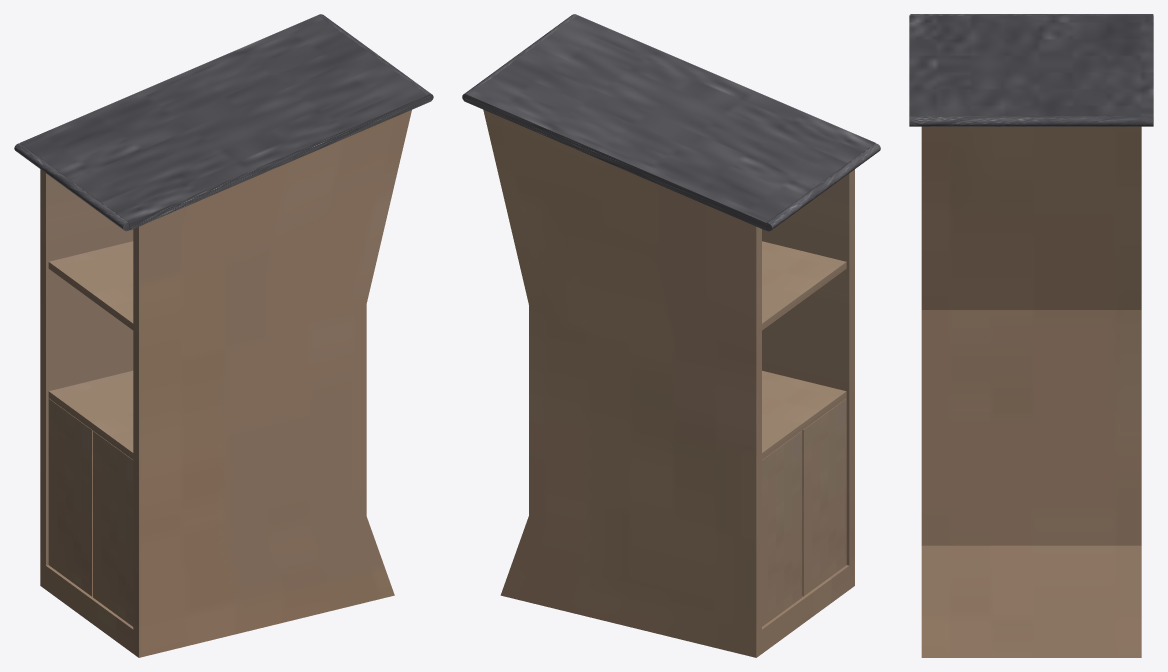
Rendered from podium.obj.
3 views of the same model, side by side, from view 1: azimuth 30°, elevation 25°; view 2: azimuth 150°, elevation 25°; view 3: azimuth 270°, elevation 25° (orthographic). The views are drawn at different scales.
Visible parts, largest first — view 1: Cube, Cube.005, Cube.004, Cube.003, Cube.001, Cube.002, Cylinder.001; view 2: Cube, Cube.005, Cube.003, Cube.004, Cube.001, Cube.002, Cylinder.001; view 3: Cube, Cube.005, Cylinder, Cylinder.001.
Part boxes in pixels (x1=…): Cube: x1=40, y1=110, x2=411, y2=657; Cube.005: x1=20, y1=14, x2=431, y2=230; Cube.004: x1=48, y1=398, x2=92, y2=596; Cube.003: x1=93, y1=431, x2=133, y2=626; Cube.001: x1=48, y1=241, x2=133, y2=330; Cube.002: x1=48, y1=370, x2=133, y2=459; Cylinder.001: x1=14, y1=143, x2=129, y2=231; Cube: x1=483, y1=109, x2=854, y2=657; Cube.005: x1=464, y1=14, x2=875, y2=229; Cube.003: x1=802, y1=398, x2=846, y2=596; Cube.004: x1=762, y1=431, x2=802, y2=626; Cube.001: x1=762, y1=241, x2=846, y2=330; Cube.002: x1=762, y1=370, x2=846, y2=459; Cylinder.001: x1=765, y1=143, x2=880, y2=231; Cube: x1=921, y1=126, x2=1141, y2=657; Cube.005: x1=909, y1=15, x2=1153, y2=126; Cylinder: x1=909, y1=116, x2=1152, y2=126; Cylinder.001: x1=910, y1=14, x2=1153, y2=15.
Bounding box in the file's own units: 1.64 × 2.51 × 1.
